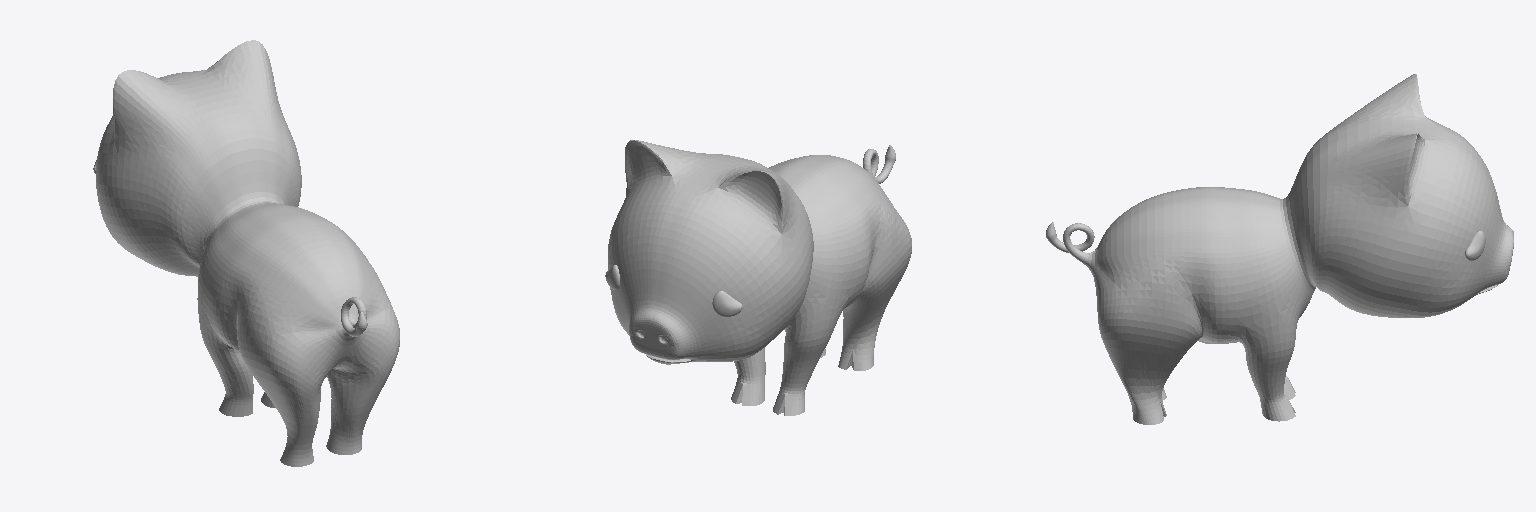
File: CartoonPig1-bl.obj
3 renders of one model, left to right at view 1: azimuth 30°, elevation 25°; view 2: azimuth 150°, elevation 25°; view 3: azimuth 270°, elevation 25°, orthographic.
Parts seen in each view (by area): view 1: Pig.004; view 2: Pig.004; view 3: Pig.004.
Part boxes in pixels (x1,y1,x2,y2): Pig.004: (93,40,399,466); Pig.004: (605,140,911,415); Pig.004: (1046,74,1513,424).
Bounding box in the file's own units: 2.09 × 3.41 × 4.82.